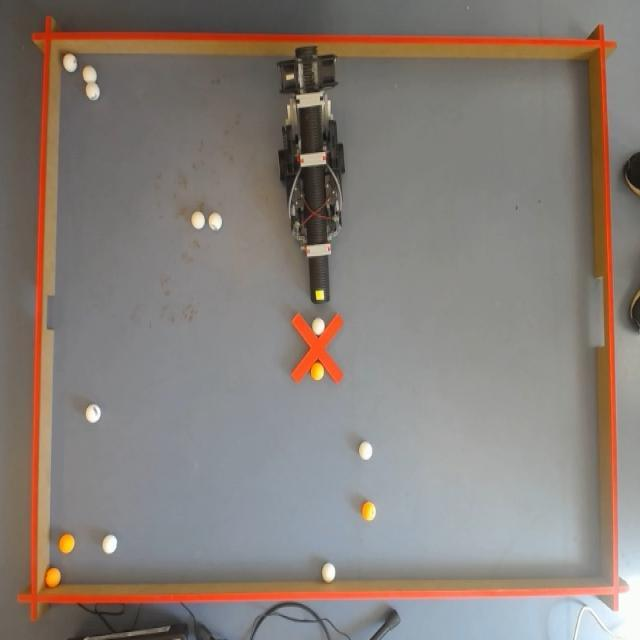orange: (58, 534, 76, 552), (310, 359, 322, 382), (47, 568, 60, 588), (362, 504, 376, 521)
robot: (281, 43, 342, 304)
white: (359, 440, 374, 460), (86, 405, 100, 424), (62, 54, 76, 73), (86, 81, 100, 100), (322, 564, 334, 586), (102, 534, 115, 554), (84, 66, 98, 84), (210, 214, 222, 232), (312, 315, 323, 334), (193, 212, 204, 230)
